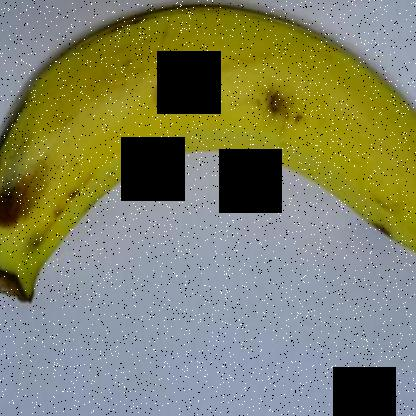freshripe: (1, 1, 415, 322)
